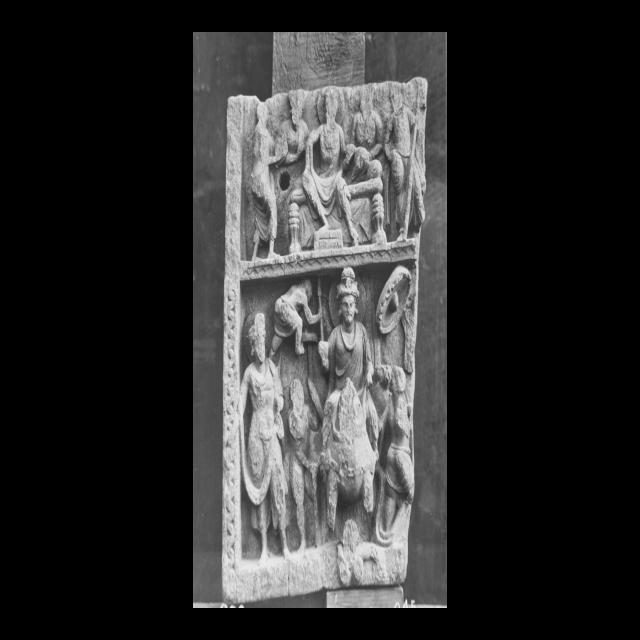buddha-sitting: (317, 267, 378, 532), (302, 87, 359, 243), (350, 144, 360, 159)
